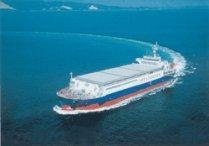Cargoship: (53, 40, 180, 119)
